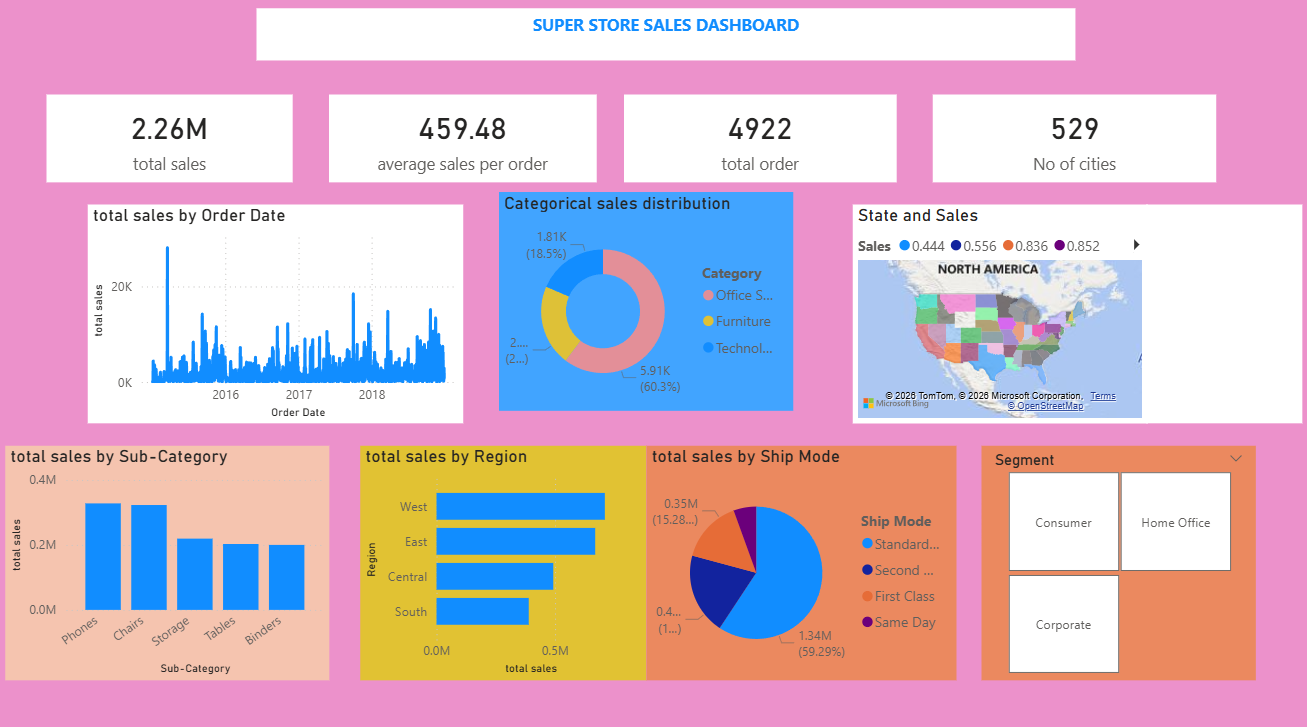

The dashboard page shown, as its layout file describes it:
{"tool":"powerbi","page":{"name":"Page 1","canvas":[1280,720],"ordinal":0},"visuals":[{"type":"card","fields":{"Values":["SuperStore_Sales_Dataset.total sales"]},"box":[39.8,20.6,258,167.4],"z":0},{"type":"card","fields":{"Values":["SuperStore_Sales_Dataset.average sales per order"]},"box":[333.4,20.6,258,167.4],"z":1000},{"type":"actionButton","box":[0,0,100,40],"z":2000},{"type":"card","fields":{"Values":["SuperStore_Sales_Dataset.total order"]},"box":[614.8,20.6,266.2,167.4],"z":3000},{"type":"card","fields":{"Values":["SuperStore_Sales_Dataset.No of cities"]},"box":[905.7,20.6,284,167.4],"z":4000},{"type":"clusteredColumnChart","fields":{"Category":["SuperStore_Sales_Dataset.Sub-Category"],"Y":["SuperStore_Sales_Dataset.total sales"]},"box":[20.6,443.2,312.9,226.4],"z":5000},{"type":"clusteredBarChart","fields":{"Category":["SuperStore_Sales_Dataset.Region"],"Y":["SuperStore_Sales_Dataset.total sales"]},"box":[363.6,443.2,275.8,226.4],"z":6000},{"type":"donutChart","title":" Categorical sales distribution","fields":{"Category":["SuperStore_Sales_Dataset.Category"],"Y":["CountNonNull(SuperStore_Sales_Dataset.Region)"]},"box":[496.7,197.6,284,211.3],"z":7000},{"type":"pieChart","fields":{"Category":["SuperStore_Sales_Dataset.Ship Mode"],"Y":["SuperStore_Sales_Dataset.total sales"]},"box":[639.5,443.2,299.1,226.4],"z":8000},{"type":"slicer","fields":{"Values":["SuperStore_Sales_Dataset.Segment"]},"box":[963.3,443.2,264.8,226.4],"z":9000},{"type":"filledMap","fields":{"Category":["SuperStore_Sales_Dataset.State"],"Series":["SuperStore_Sales_Dataset.Sales"]},"box":[838.4,209.9,284,211.3],"z":10000},{"type":"lineChart","fields":{"Y":["SuperStore_Sales_Dataset.total sales"],"Category":["SuperStore_Sales_Dataset.Order Date"]},"box":[100.2,209.9,362.3,211.3],"z":11000}]}

Visuals, with their boxes in screenshot pixels (x1, y1, x2, y2), scaled from the page's 1280x720 canvas onto the 1307x727 screenshot:
card - SuperStore_Sales_Dataset.total sales: {"left": 41, "top": 21, "right": 304, "bottom": 190}
card - SuperStore_Sales_Dataset.average sales per order: {"left": 340, "top": 21, "right": 604, "bottom": 190}
actionButton: {"left": 0, "top": 0, "right": 102, "bottom": 40}
card - SuperStore_Sales_Dataset.total order: {"left": 628, "top": 21, "right": 900, "bottom": 190}
card - SuperStore_Sales_Dataset.No of cities: {"left": 925, "top": 21, "right": 1215, "bottom": 190}
clusteredColumnChart - SuperStore_Sales_Dataset.Sub-Category x SuperStore_Sales_Dataset.total sales: {"left": 21, "top": 448, "right": 341, "bottom": 676}
clusteredBarChart - SuperStore_Sales_Dataset.Region x SuperStore_Sales_Dataset.total sales: {"left": 371, "top": 448, "right": 653, "bottom": 676}
" Categorical sales distribution" donutChart: {"left": 507, "top": 200, "right": 797, "bottom": 413}
pieChart - SuperStore_Sales_Dataset.Ship Mode x SuperStore_Sales_Dataset.total sales: {"left": 653, "top": 448, "right": 958, "bottom": 676}
slicer - SuperStore_Sales_Dataset.Segment: {"left": 984, "top": 448, "right": 1254, "bottom": 676}
filledMap - SuperStore_Sales_Dataset.State x SuperStore_Sales_Dataset.Sales: {"left": 856, "top": 212, "right": 1146, "bottom": 425}
lineChart - SuperStore_Sales_Dataset.total sales x SuperStore_Sales_Dataset.Order Date: {"left": 102, "top": 212, "right": 472, "bottom": 425}
